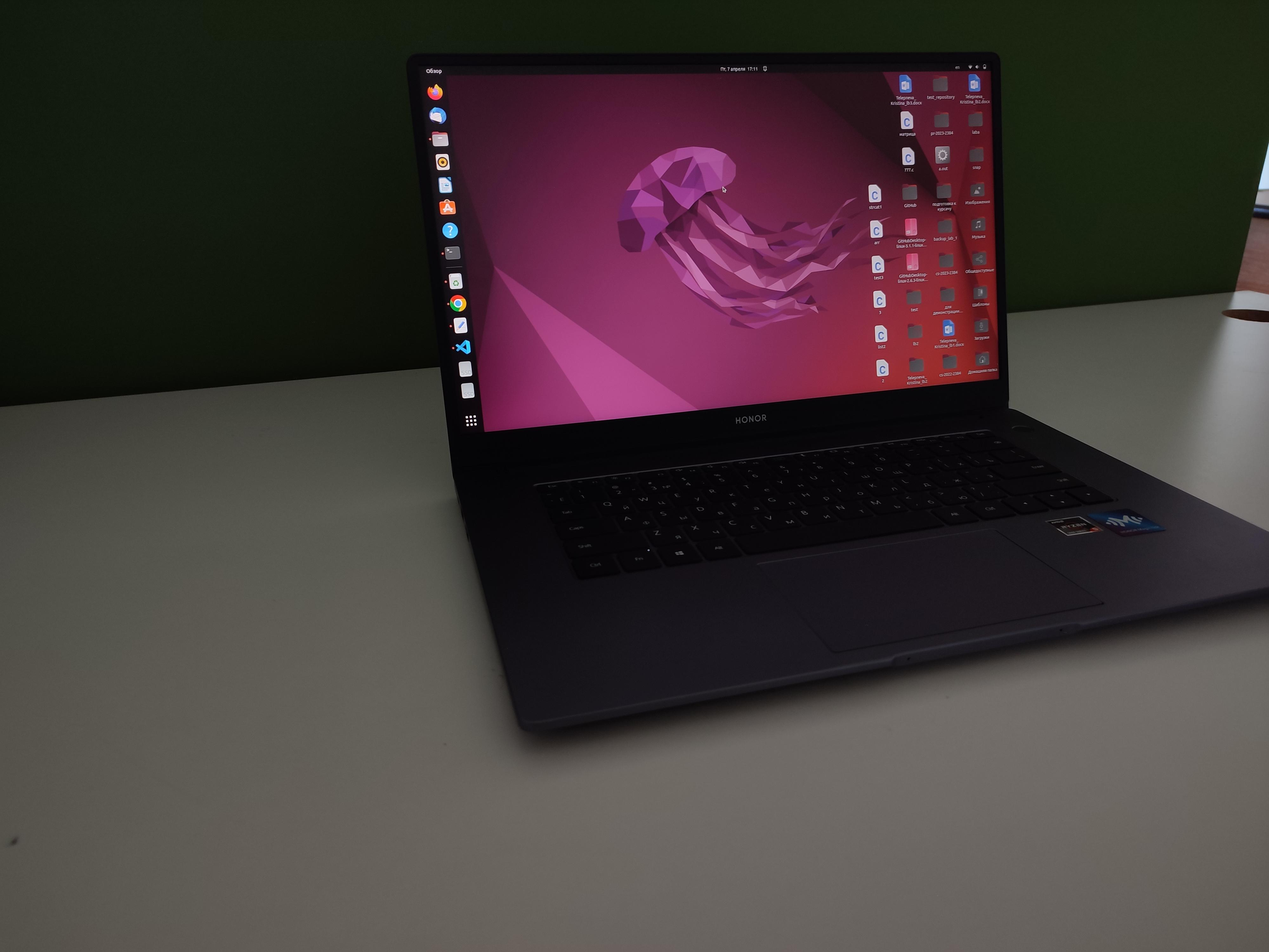monitor: (403, 52, 1015, 465)
